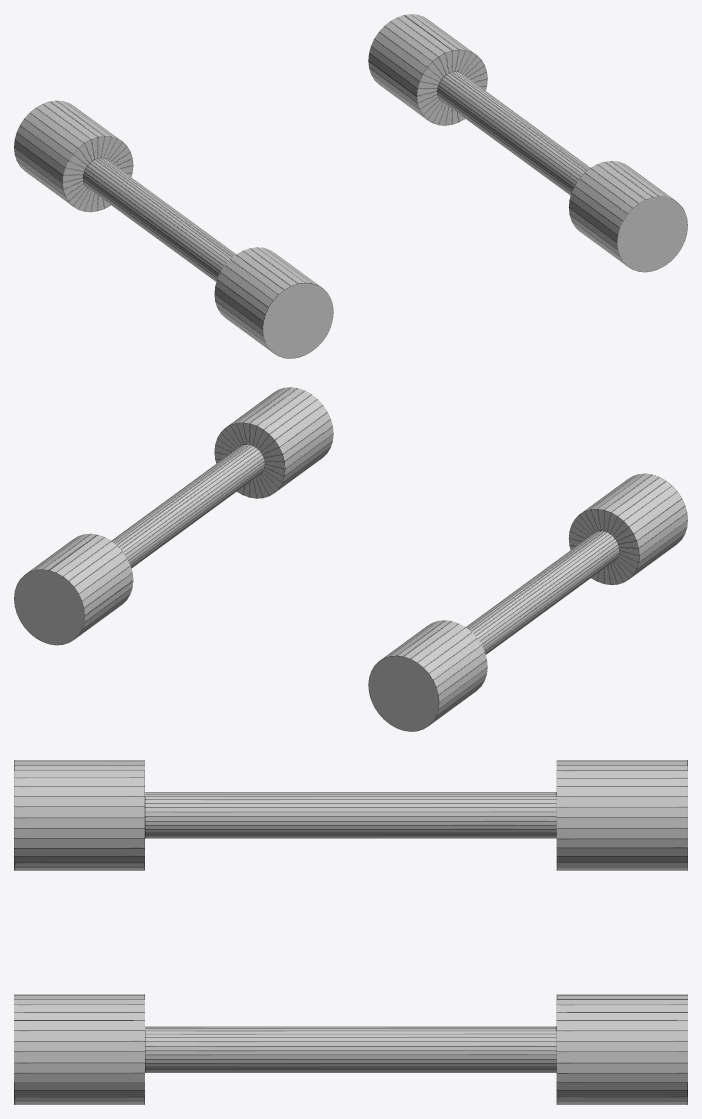
File: wheels.obj
3 renders of one model, top to bottom at view 1: azimuth 30°, elevation 25°; view 2: azimuth 150°, elevation 25°; view 3: azimuth 270°, elevation 25°, orthographic. The views are drawn at different scales.
Visible parts, largest first — view 1: wheels_Cube.003; view 2: wheels_Cube.003; view 3: wheels_Cube.003.
Part boxes in pixels (bbox=[...]): wheels_Cube.003: bbox=[14, 14, 687, 358]; wheels_Cube.003: bbox=[14, 387, 687, 731]; wheels_Cube.003: bbox=[14, 760, 687, 1104].
Bounding box in the file's own units: 1.2 × 0.2 × 1.22.
1 material, 1 textured.
